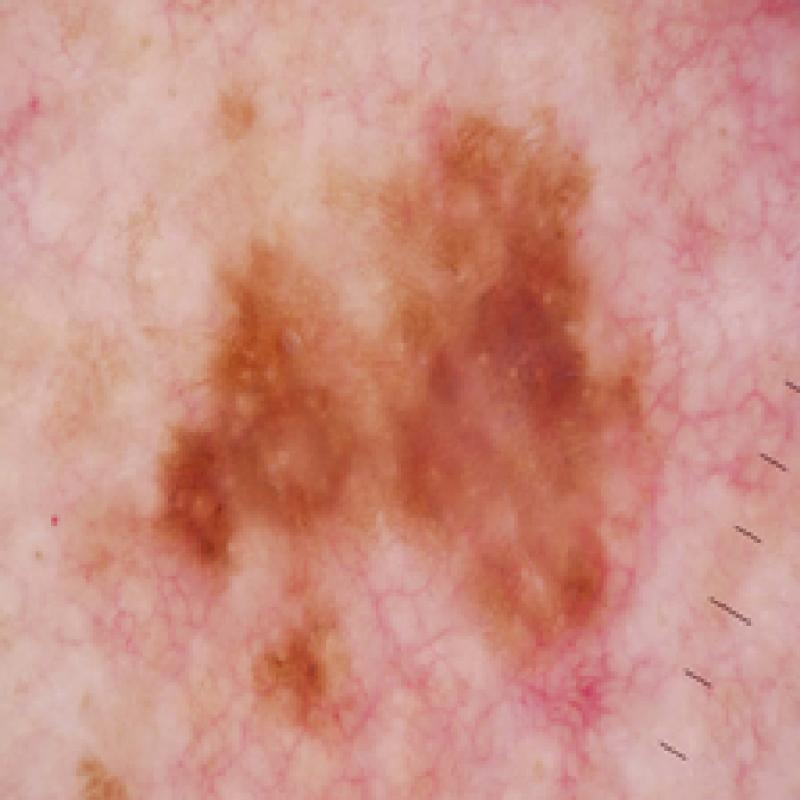benign: (115, 73, 704, 765)
